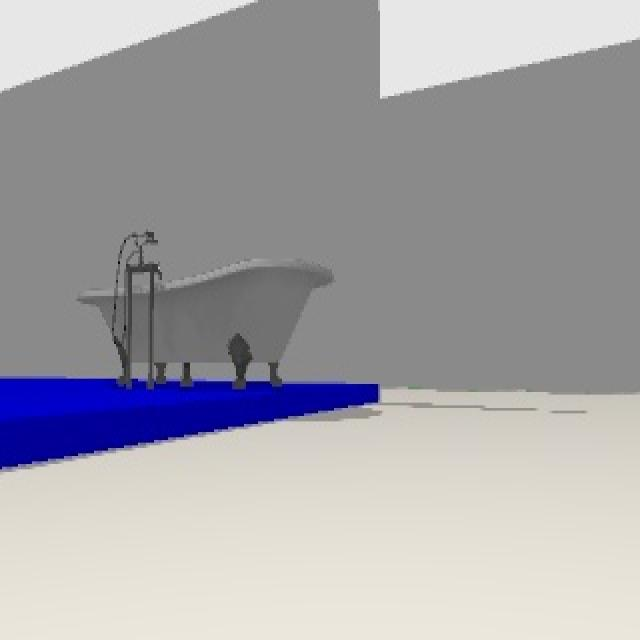bathtub: (79, 228, 336, 394)
